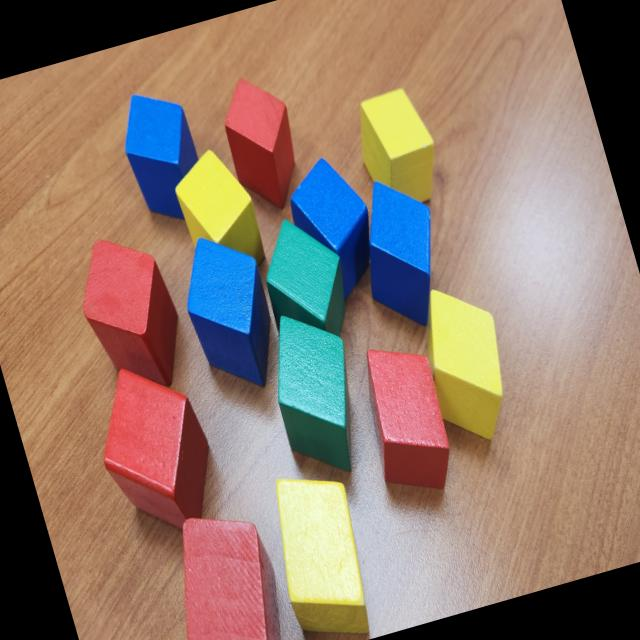blue: (169, 223, 291, 401), (340, 168, 460, 338), (276, 149, 391, 310), (110, 81, 213, 230)
green: (253, 300, 381, 486), (248, 205, 361, 352)
red: (80, 348, 230, 544), (65, 223, 196, 404), (155, 498, 300, 640), (347, 332, 466, 503), (210, 66, 313, 217)
yellow: (256, 461, 385, 640), (407, 275, 526, 452), (167, 143, 270, 280), (347, 83, 450, 218)
